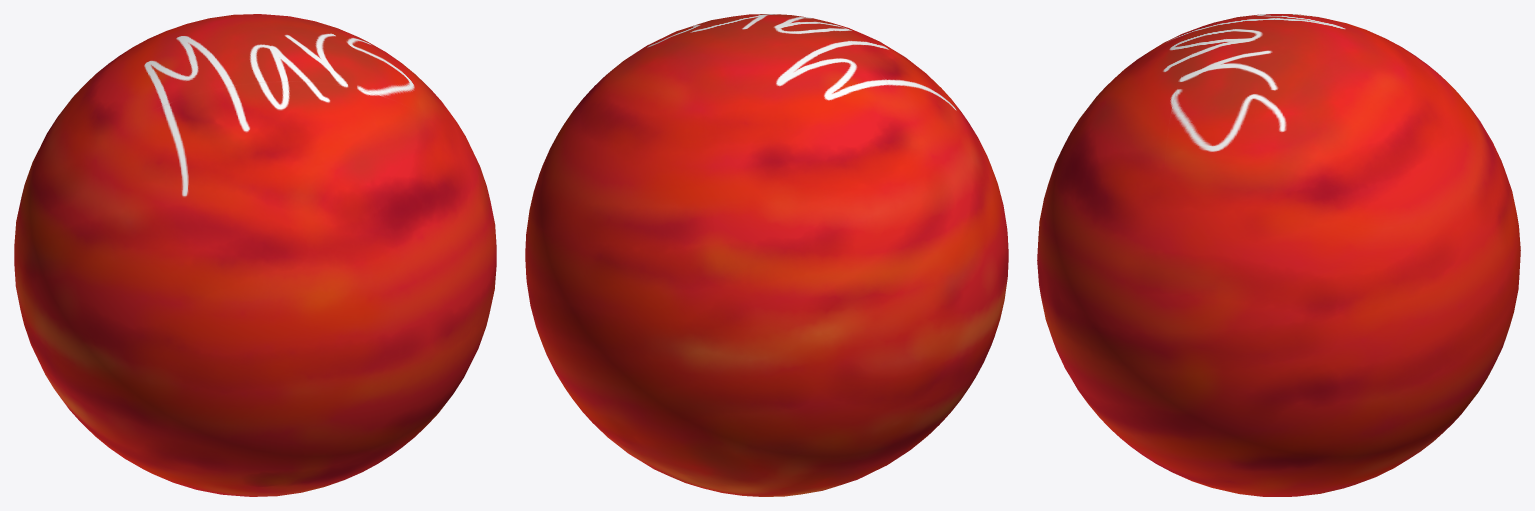
Rendered from mars.gltf.
3 renders of one model, left to right at view 1: azimuth 30°, elevation 25°; view 2: azimuth 150°, elevation 25°; view 3: azimuth 270°, elevation 25°, orthographic.
Parts seen in each view (by area): view 1: mesh_id27; view 2: mesh_id27; view 3: mesh_id27.
Part boxes in pixels (x1=…): mesh_id27: x1=14, y1=14, x2=496, y2=496; mesh_id27: x1=525, y1=14, x2=1008, y2=496; mesh_id27: x1=1037, y1=14, x2=1520, y2=496.
Bounding box in the file's own units: 0.468 × 0.4682 × 0.4683.
Materials: 1 (1 with a texture image).
